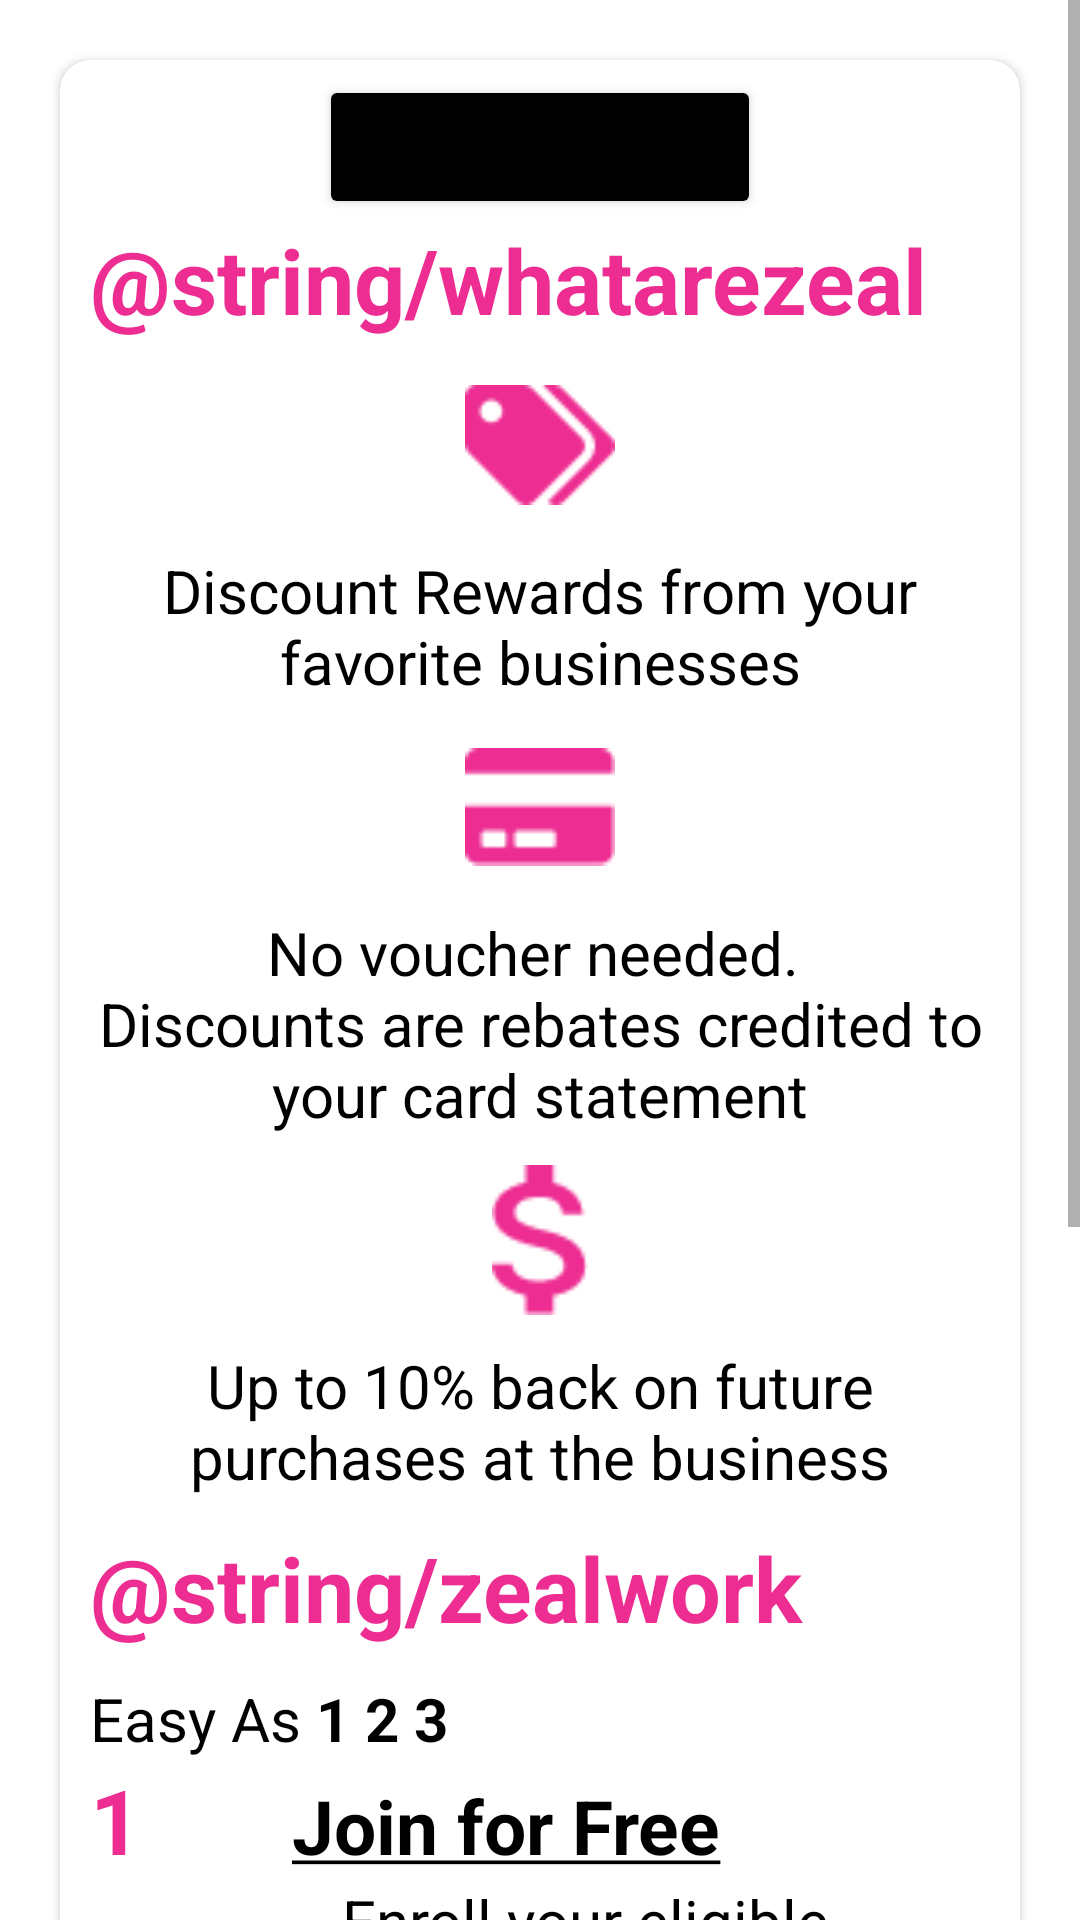

Screen size 1080px x 1920px. Icon name, then its center in pixels as [x,y]:
dollar: [540,1240]
